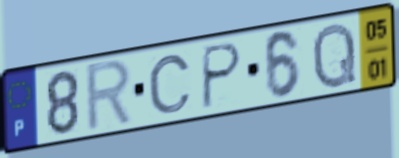6: (263, 28, 305, 101)
8: (43, 69, 81, 138)
C: (146, 52, 194, 116)
P: (199, 40, 245, 113)
Q: (311, 20, 359, 92)
R: (84, 56, 136, 136)
